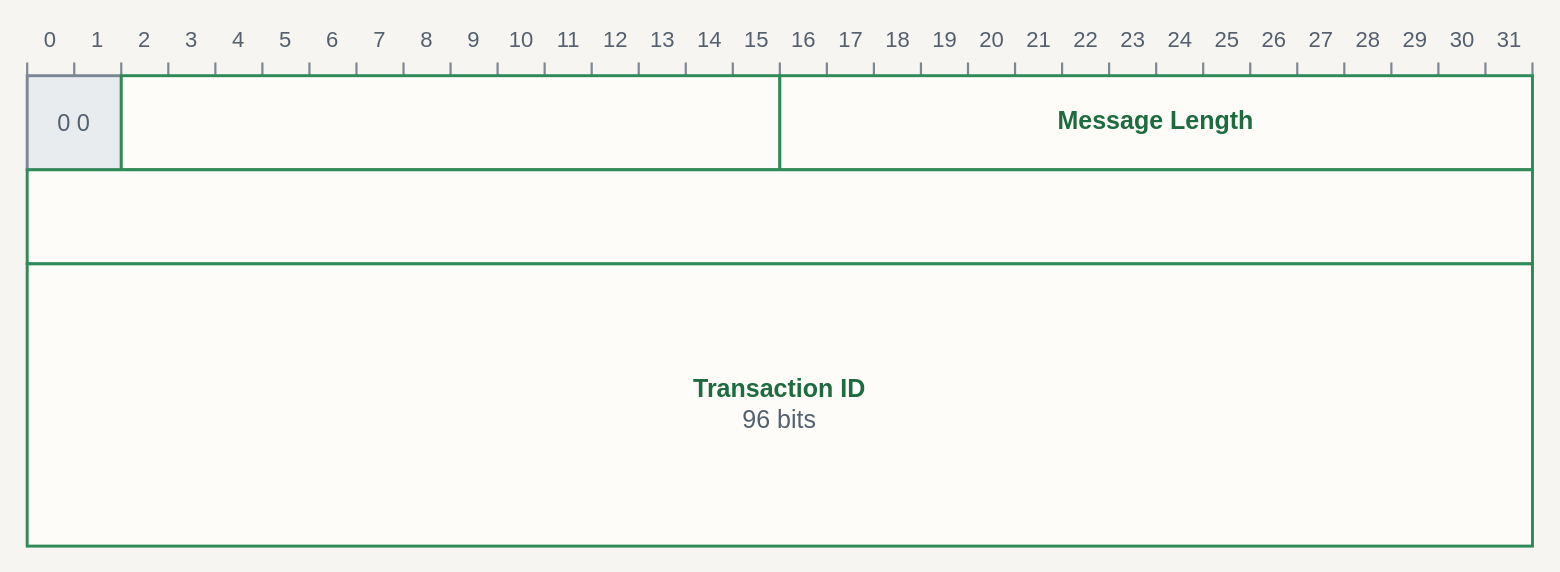
Some shapes in this 1560 by 572 pixel diagram are drawn without their labels. Each missing label, with the centre of its shape:
"Magic Cookie 0x2112A442" belongs at [779,216].
"STUN Message Type" belongs at [450,122].
